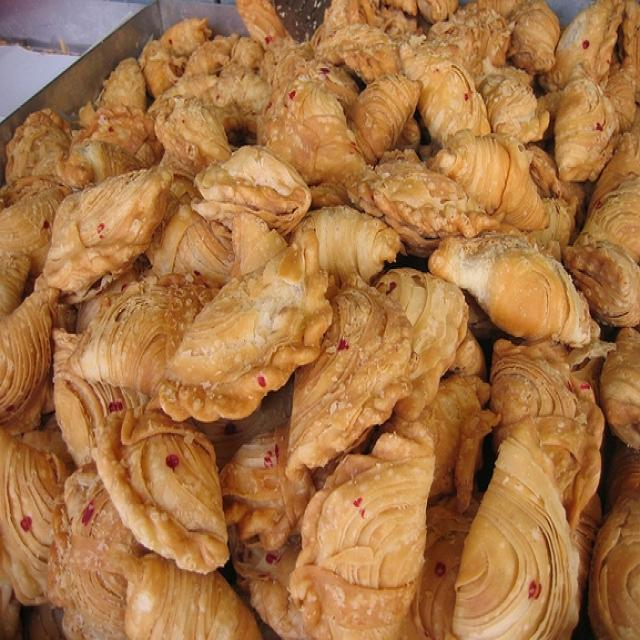炸货点心: (16, 13, 616, 621)
